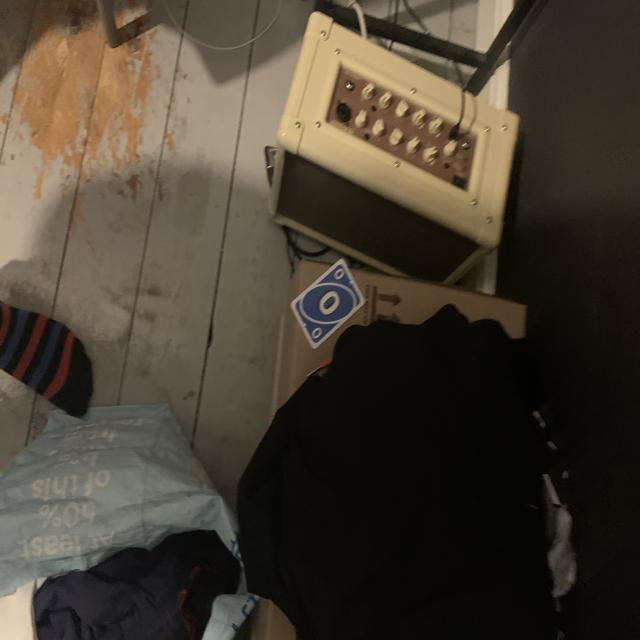lblue-0: (331, 265, 346, 284)
